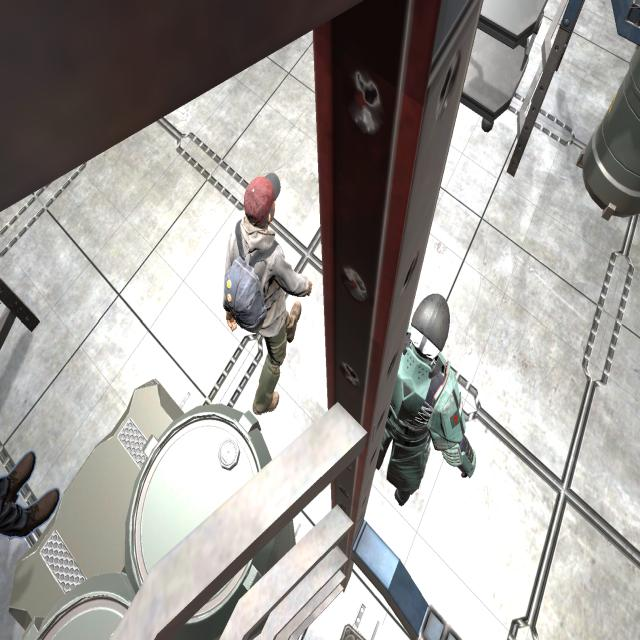thiefs: (214, 163, 317, 424)
